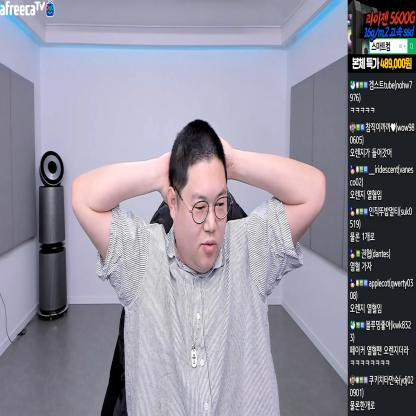streamer: (71, 118, 326, 416)
